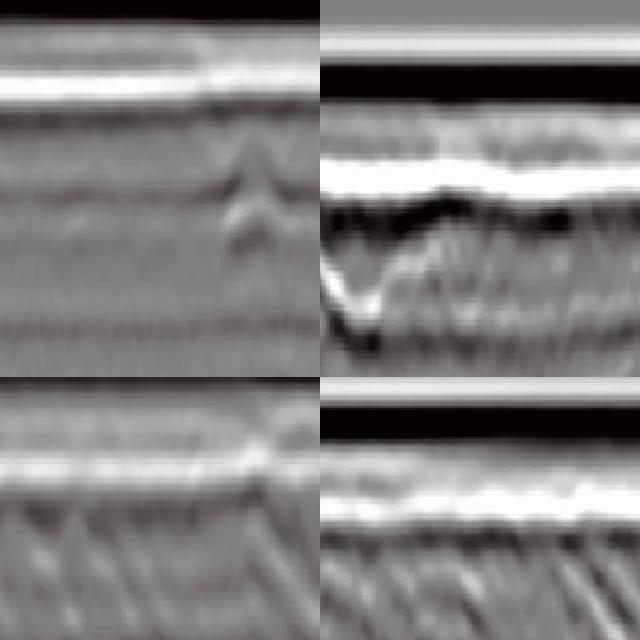loose: (1, 446, 321, 640), (321, 147, 497, 378), (321, 517, 640, 640)
